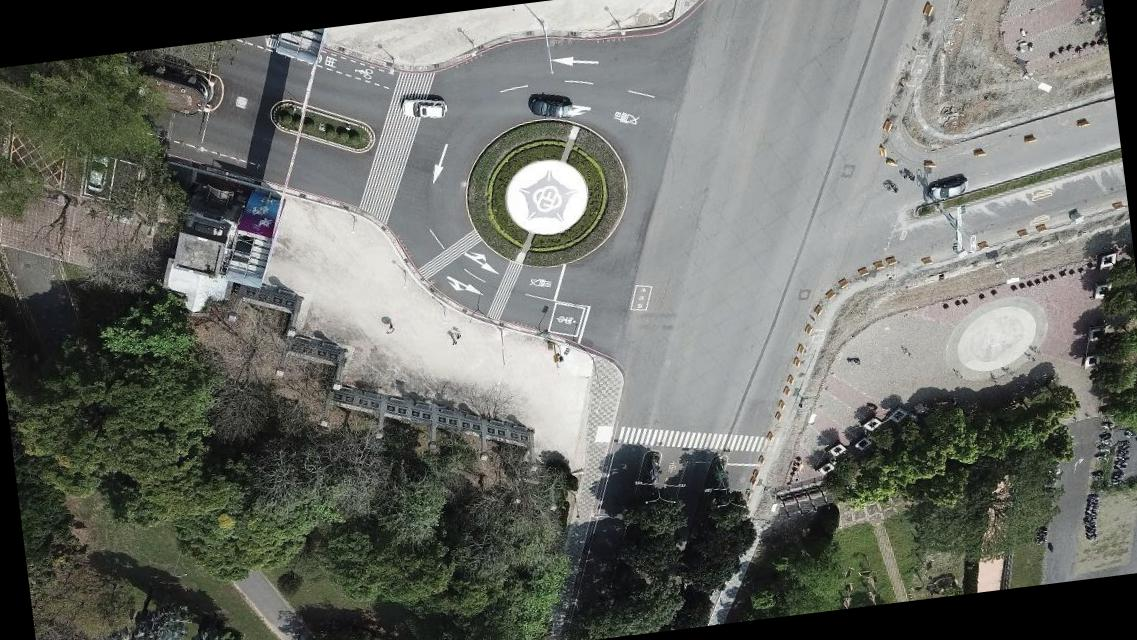vehicle: (399, 92, 448, 122), (528, 92, 572, 122), (83, 152, 111, 194), (927, 176, 970, 201)
